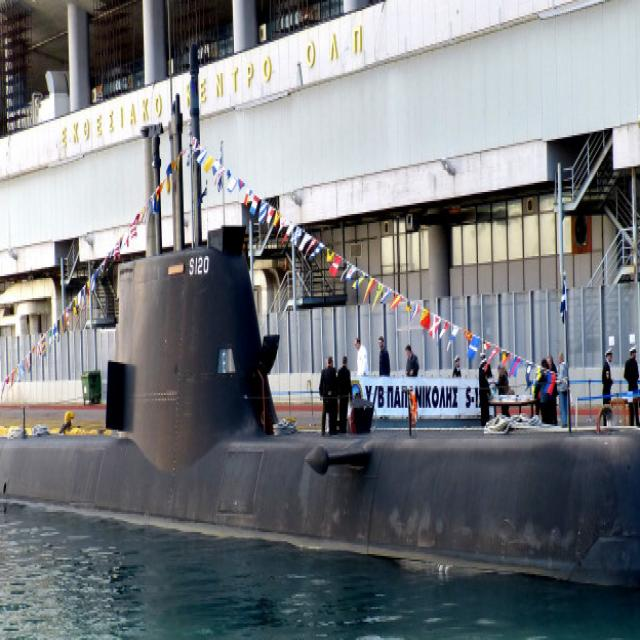submarine: (1, 52, 640, 588)
